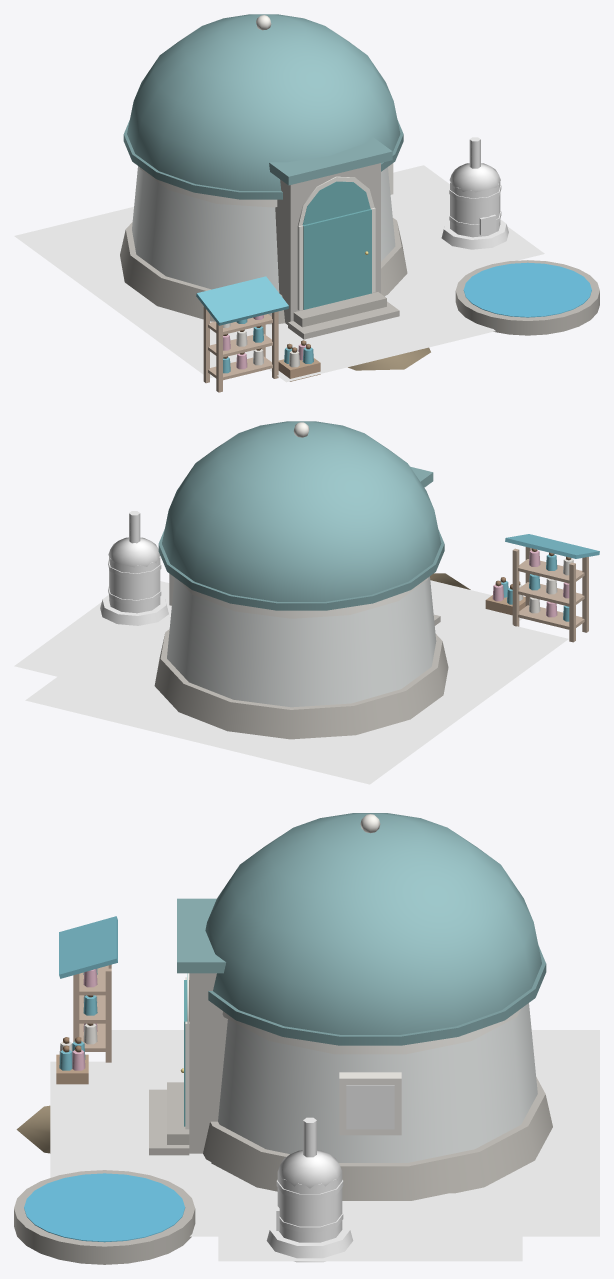
File: spa_1.glb
3 views of the same model, one above another, from view 1: azimuth 30°, elevation 25°; view 2: azimuth 150°, elevation 25°; view 3: azimuth 270°, elevation 25° (orthographic). The views are drawn at different scales.
Parts seen in each view (by area): view 1: body4, spa_1, when_plan_true, body3; view 2: body4, spa_1, when_plan_true, body3; view 3: body4, spa_1, when_plan_true, body3.
Boxes of the visible parts, x1,y1,x2,y2 form: body4: (120, 14, 599, 392); spa_1: (14, 165, 544, 382); when_plan_true: (441, 137, 508, 249); body3: (223, 315, 320, 381); body4: (154, 421, 599, 739); spa_1: (14, 580, 568, 784); when_plan_true: (100, 511, 168, 625); body3: (485, 548, 573, 615); body4: (14, 813, 552, 1264); spa_1: (50, 1030, 599, 1261); when_plan_true: (266, 1117, 353, 1262); body3: (56, 969, 97, 1084).
Bounding box in the file's own units: 2.69 × 1.67 × 2.8.
